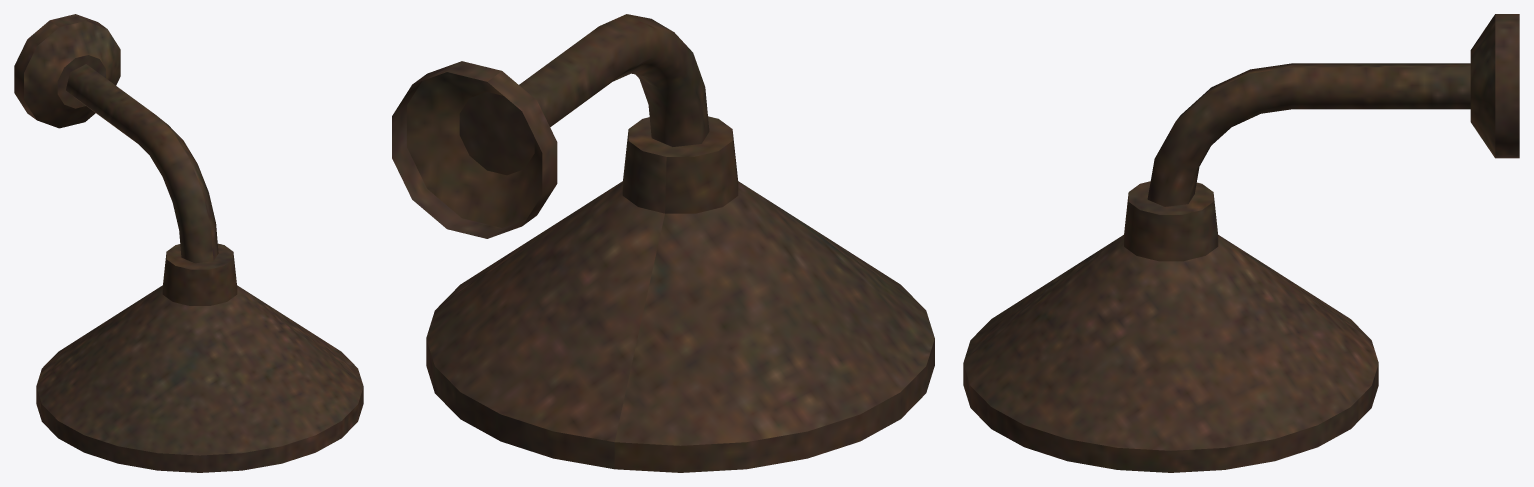
The model's file is lamp_mx_2_off.obj.
3 renders of one model, left to right at view 1: azimuth 30°, elevation 25°; view 2: azimuth 150°, elevation 25°; view 3: azimuth 270°, elevation 25°, orthographic. The views are drawn at different scales.
Visible parts, largest first — view 1: lamp_mx_2_off; view 2: lamp_mx_2_off; view 3: lamp_mx_2_off.
Part boxes in pixels (left/top/right/bottom): lamp_mx_2_off: left=14, top=14, right=363, bottom=472; lamp_mx_2_off: left=392, top=14, right=934, bottom=472; lamp_mx_2_off: left=963, top=14, right=1519, bottom=472.
Size of the model in its own units: 0.357 by 0.3682 by 0.478.
